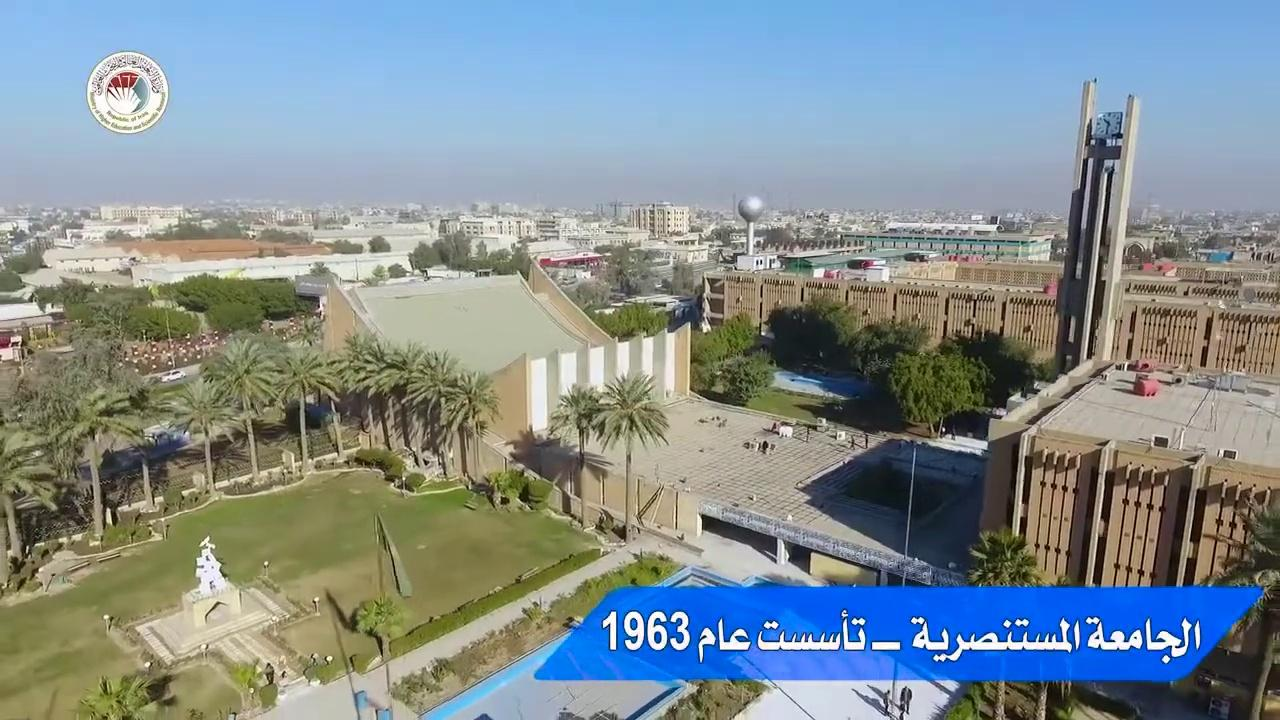car: (1169, 666, 1254, 716), (142, 421, 188, 446), (160, 368, 186, 383)
fountain: (419, 619, 690, 720)
person: (264, 662, 274, 684)
tree: (11, 317, 164, 544), (1197, 498, 1279, 718), (962, 525, 1051, 718), (590, 370, 669, 542), (59, 383, 144, 542), (198, 333, 282, 482), (0, 411, 59, 592), (352, 512, 411, 693), (887, 346, 992, 438), (269, 343, 339, 474), (545, 381, 604, 524), (167, 376, 238, 494), (691, 310, 777, 406), (336, 329, 401, 450), (402, 348, 461, 473), (438, 370, 501, 483), (116, 382, 170, 509), (376, 339, 429, 463), (353, 592, 404, 694), (964, 525, 1045, 586), (76, 670, 155, 719), (713, 348, 776, 406), (372, 512, 412, 599), (590, 301, 669, 341), (225, 657, 262, 714), (353, 445, 406, 482), (407, 241, 440, 278)
